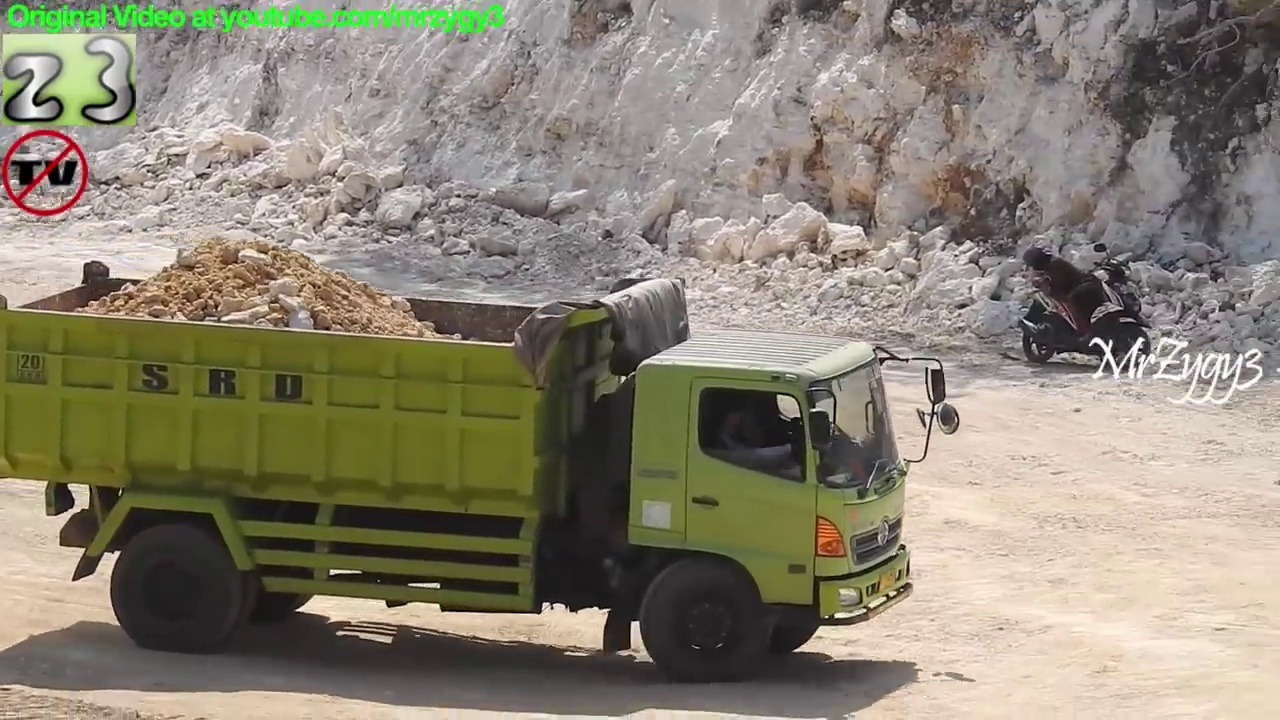truck: (1, 257, 962, 686)
